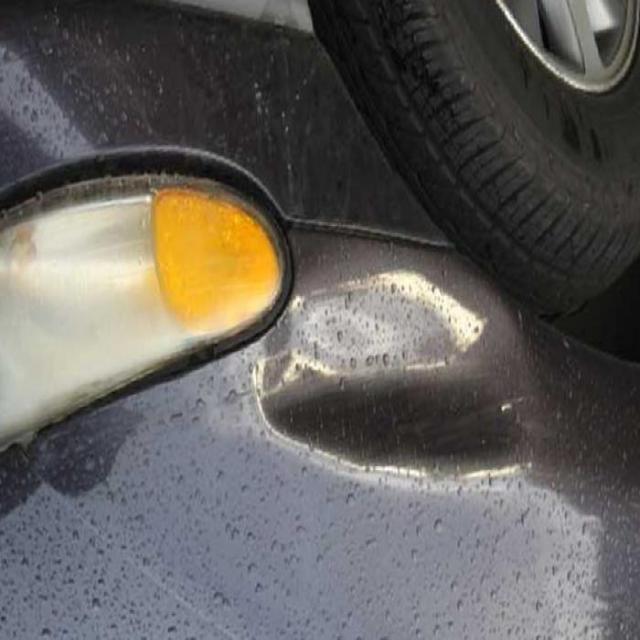dent: (228, 246, 566, 501)
